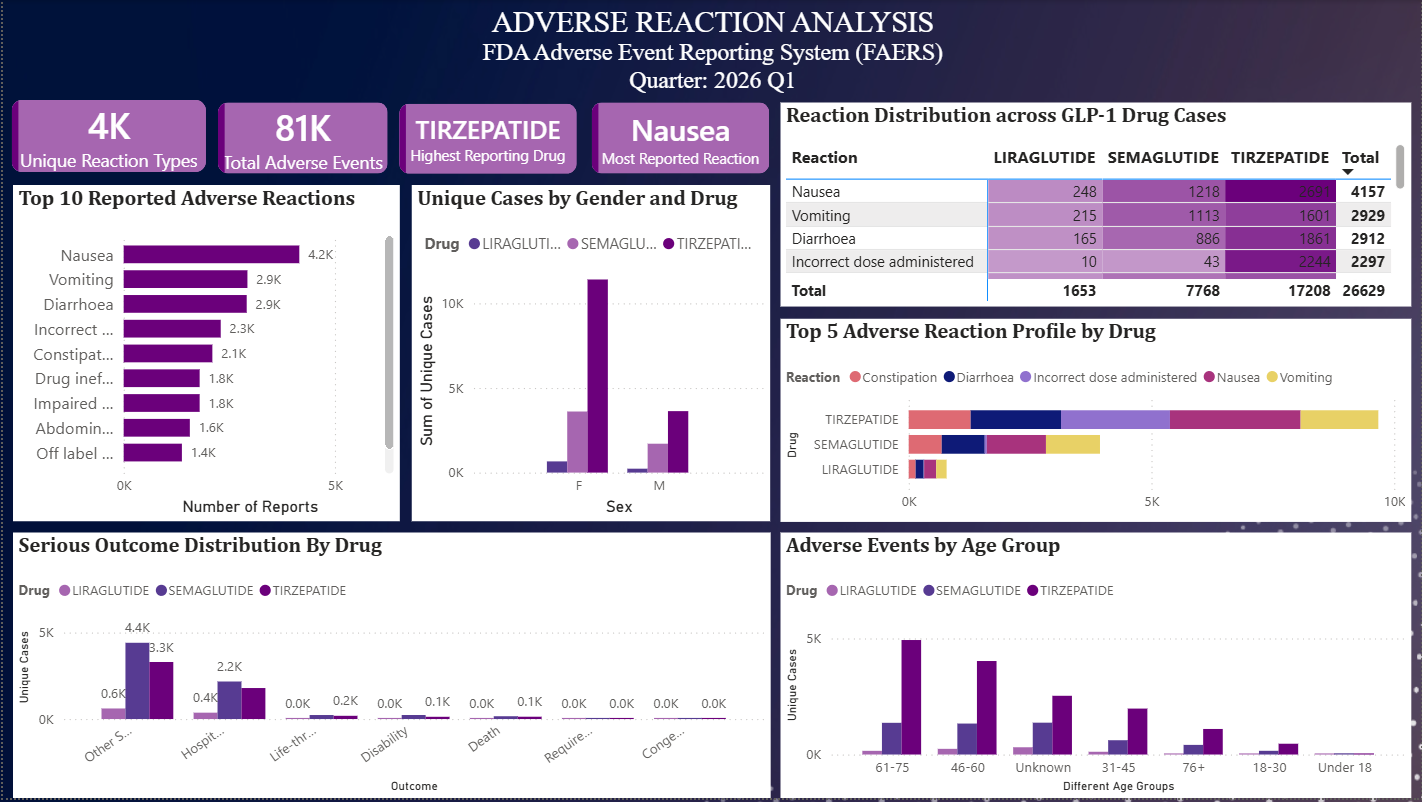

This screenshot's page, from the dashboard's own definition file:
{"tool":"powerbi","page":{"name":"Adverse Reaction Analysis","canvas":[1280,720],"ordinal":1},"visuals":[{"type":"textbox","box":[0,0,1280,112.9],"z":0},{"type":"clusteredBarChart","title":"Top 10 Reported Adverse Reactions","fields":{"Category":["reaction_summary.pt"],"Y":["Sum(reaction_summary.unique_cases)"]},"box":[8.6,167.1,348.6,302.9],"z":1000},{"type":"pivotTable","title":"Reaction Distribution across GLP-1 Drug Cases","fields":{"Rows":["reaction_summary.pt"],"Columns":["reaction_summary.glp1_drug"],"Values":["Sum(reaction_summary.unique_cases)"]},"box":[701.4,92.9,568.6,184.3],"z":2000},{"type":"cardVisual","fields":{"Data":["reaction_summary.Unique Reaction Terms"]},"box":[8.2,90.6,175.6,65.9],"z":3000},{"type":"clusteredColumnChart","title":"Serious Outcome Distribution By Drug","fields":{"Category":["outcome_summary.Out_come"],"Series":["outcome_summary.glp1_drug"],"Y":["Sum(outcome_summary.total_cases)"]},"box":[8.6,480,682.9,240],"z":4000},{"type":"cardVisual","fields":{"Data":["drug_summary.Highest Reporting Drug"]},"box":[356.8,93.3,160.5,63.1],"z":5000},{"type":"cardVisual","fields":{"Data":["reaction_summary.Most Reported Reaction"]},"box":[531.4,92.9,160,64.3],"z":6000},{"type":"cardVisual","fields":{"Data":["drug_summary.Total Adverse Events"]},"box":[193.5,91.9,153.7,64.5],"z":7000},{"type":"clusteredColumnChart","title":"Unique Cases by Gender and Drug","fields":{"Category":["drug_demographic_summary.sex"],"Y":["Sum(drug_demographic_summary.unique_cases)"],"Series":["drug_demographic_summary.glp1_drug"]},"box":[368.6,167.1,322.9,302.9],"z":8000},{"type":"clusteredColumnChart","title":"Adverse Events by Age Group","fields":{"Category":["drug_demographic_summary.age_group_custom"],"Y":["Sum(drug_demographic_summary.unique_cases)"],"Series":["drug_demographic_summary.glp1_drug"]},"box":[701.4,480,568.6,240],"z":9000},{"type":"barChart","title":"Top 5 Adverse Reaction Profile by Drug","fields":{"Series":["reaction_summary.pt"],"Y":["Sum(reaction_summary.unique_cases)"],"Category":["reaction_summary.glp1_drug"]},"box":[701.4,287.1,568.6,182.9],"z":9001}]}

Visuals, with their boxes in screenshot pixels (x1, y1, x2, y2), scaled from the page's 1280x720 canvas onto the 1422x802 screenshot:
textbox: [0, 0, 1421, 126]
"Top 10 Reported Adverse Reactions" clusteredBarChart: [10, 186, 397, 524]
"Reaction Distribution across GLP-1 Drug Cases" pivotTable: [779, 103, 1411, 309]
cardVisual - reaction_summary.Unique Reaction Terms: [9, 101, 204, 174]
"Serious Outcome Distribution By Drug" clusteredColumnChart: [10, 535, 768, 801]
cardVisual - drug_summary.Highest Reporting Drug: [396, 104, 575, 174]
cardVisual - reaction_summary.Most Reported Reaction: [590, 103, 768, 175]
cardVisual - drug_summary.Total Adverse Events: [215, 102, 386, 174]
"Unique Cases by Gender and Drug" clusteredColumnChart: [409, 186, 768, 524]
"Adverse Events by Age Group" clusteredColumnChart: [779, 535, 1411, 801]
"Top 5 Adverse Reaction Profile by Drug" barChart: [779, 320, 1411, 524]
